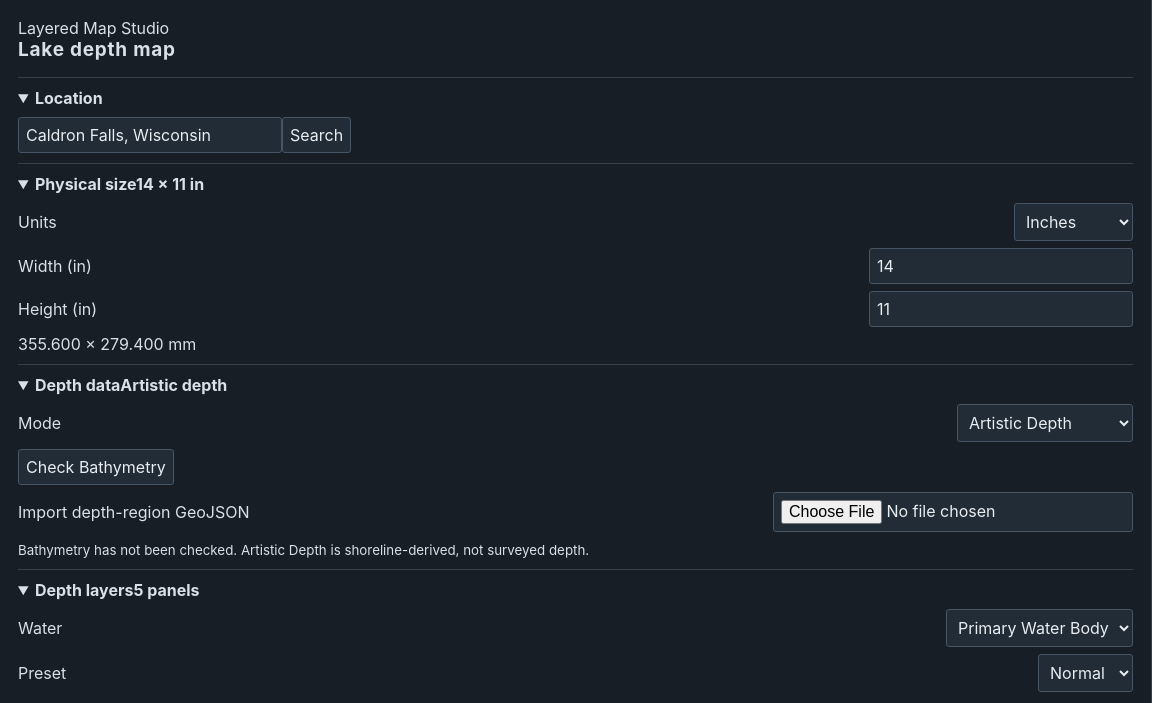
Controls: location search › shows "No search results found" when the proxy returns nothing
Click the button "Search": point(317, 135) [282,117,351,153]
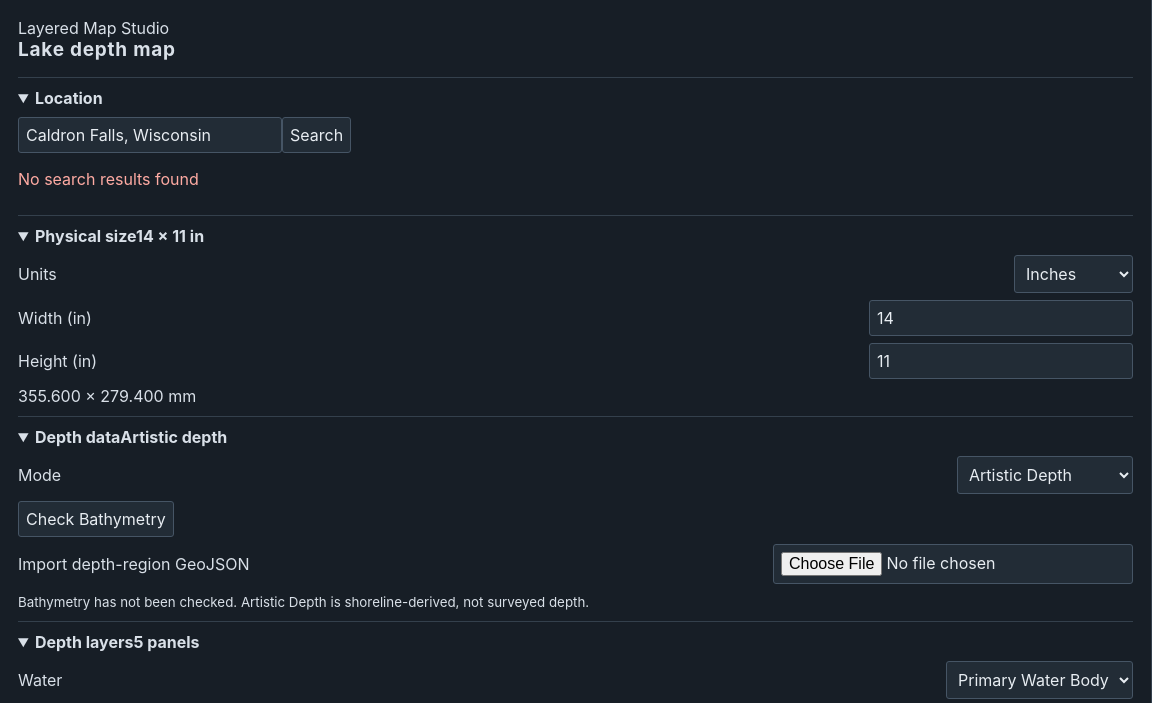
expect the text "No search results found" is shown: met, box [18,169,199,189]
